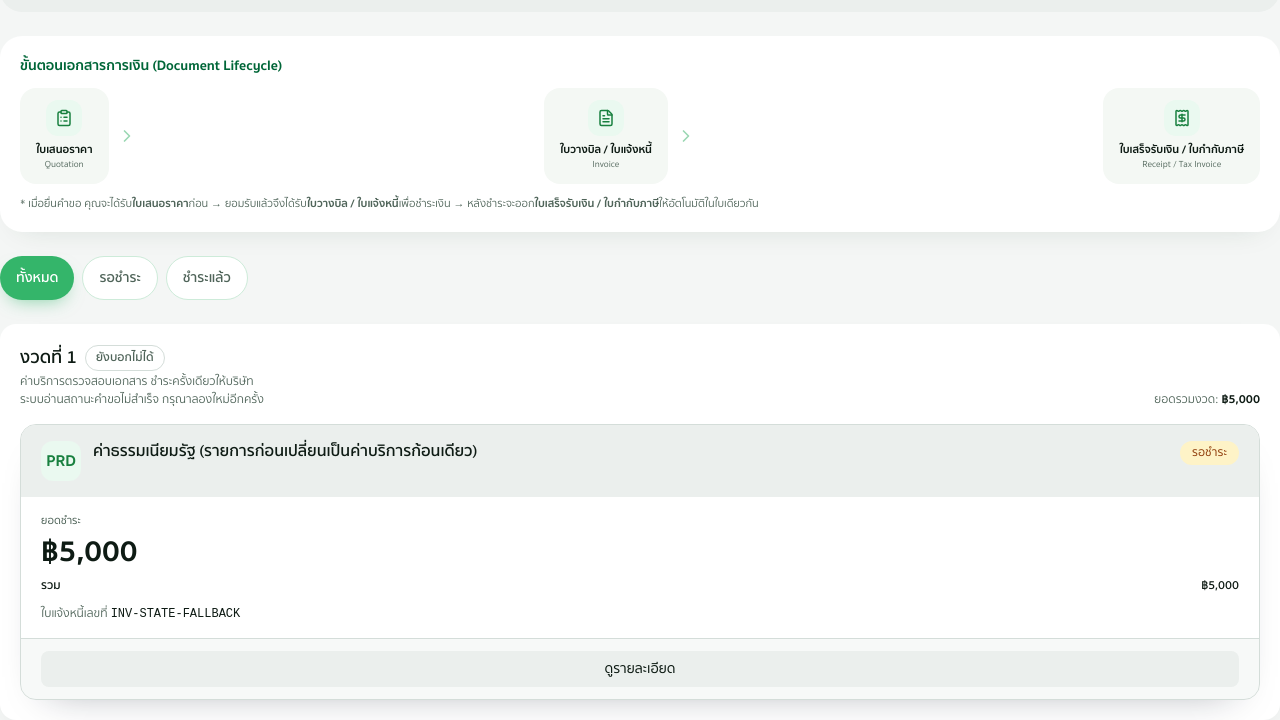
Test: HealthPaymentsPage — one-fee residue copy › a real legacy STATE row (fix round 1, 2026-09-26): named truthfully, not ไม่ระบุ, no invented VAT, no company issuer
The width and height of the screenshot is (1280, 720).
(page scrolled)
Click the button "ดูรายละเอียด" at (640, 669), box [41,651,1239,687]
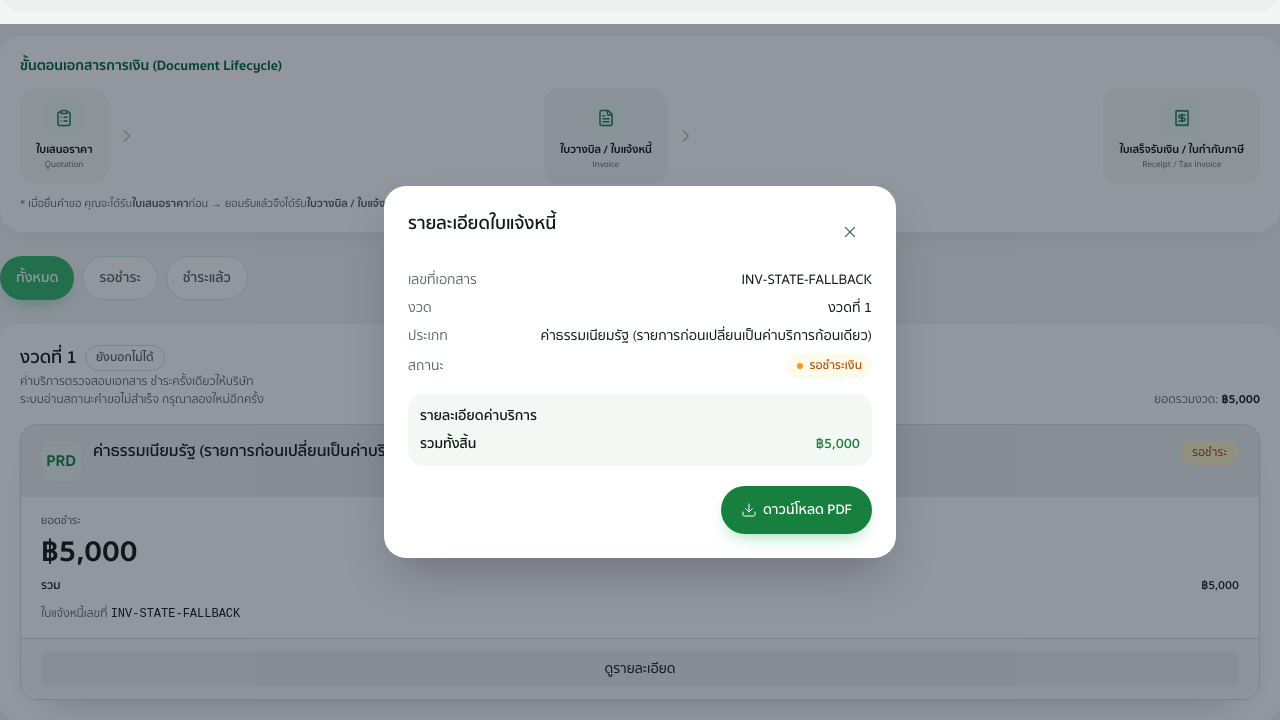
expect the dialog shows "ค่าธรรมเนียมรัฐ (รายการก่อนเปลี่ยนเป็นค่าบริการก้อนเดียว)": met, box [540,325,872,347]
expect the dialog shows "5,000": met, box [816,433,860,455]
